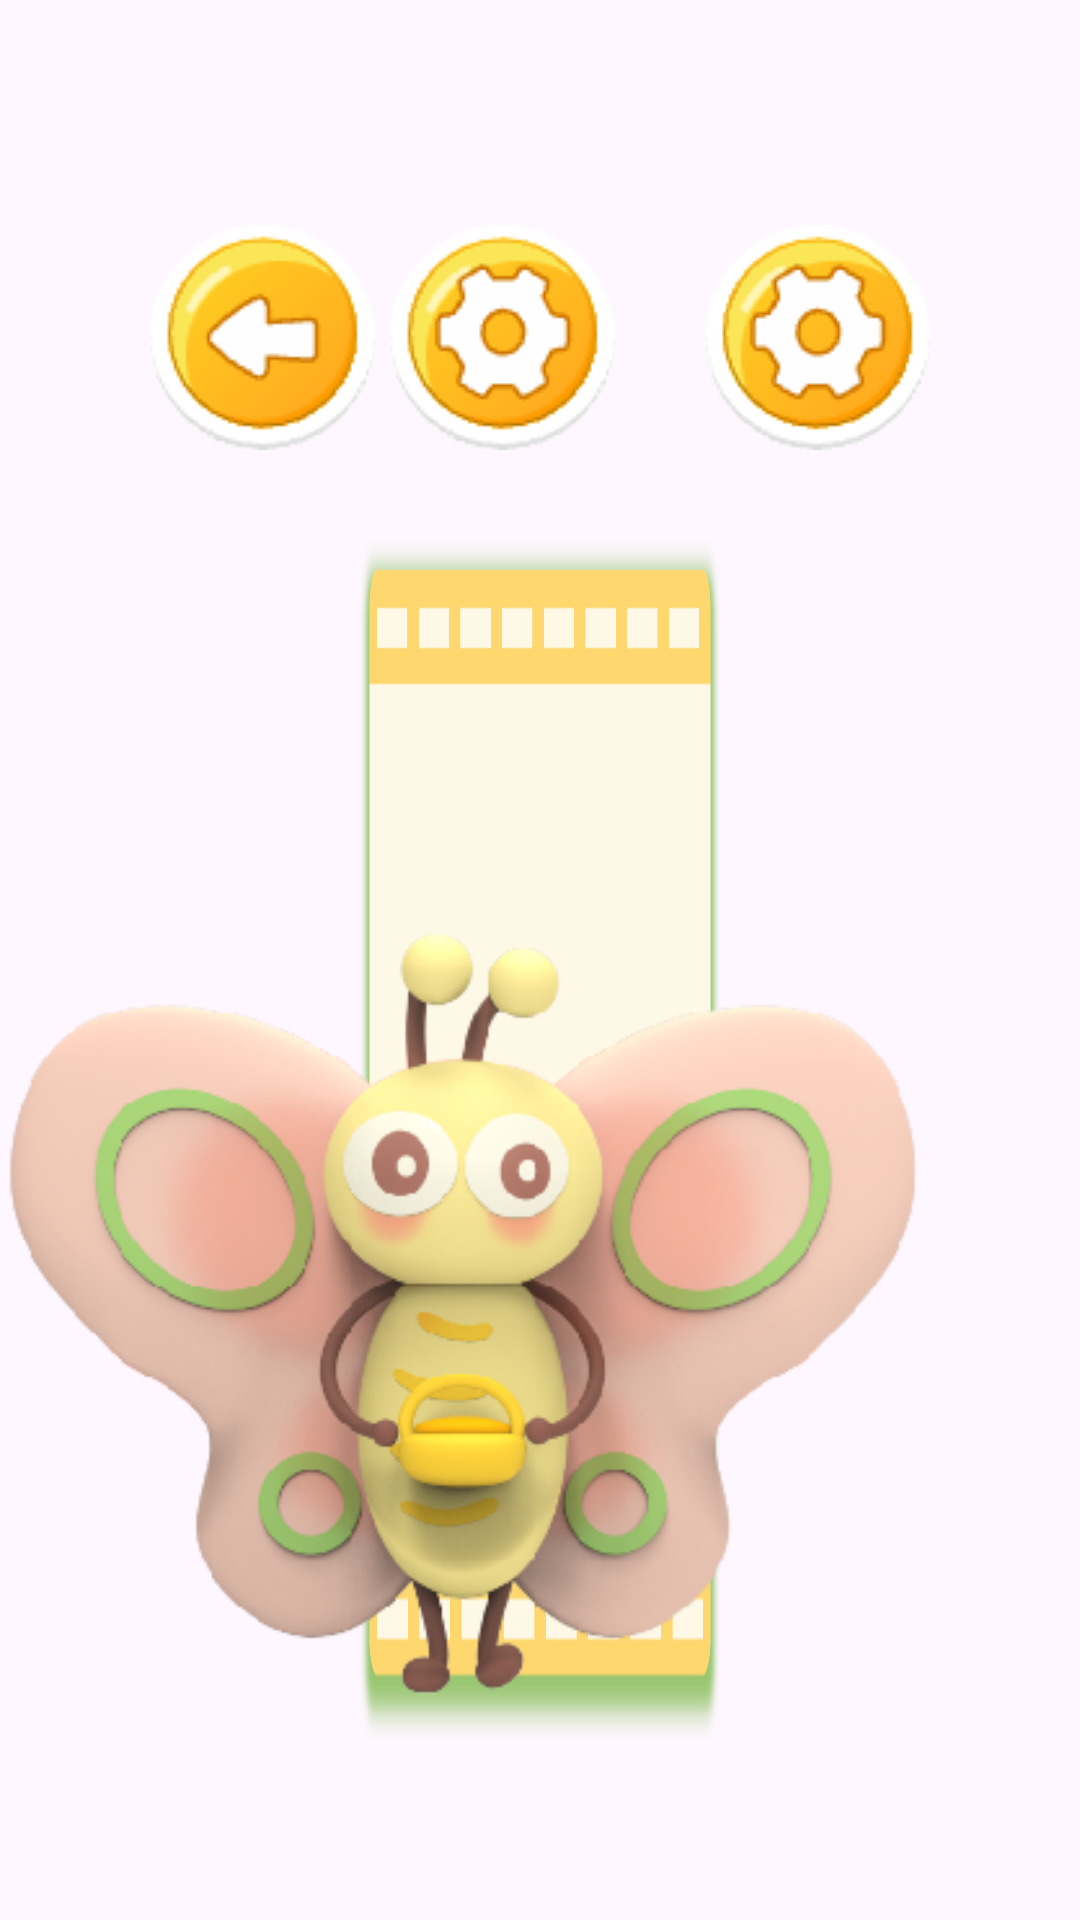

Icon click points for this 1080px×1920px phone screenshot, format point (x, y):
back: point (264, 343)
settings: point (504, 343), point (819, 343)
